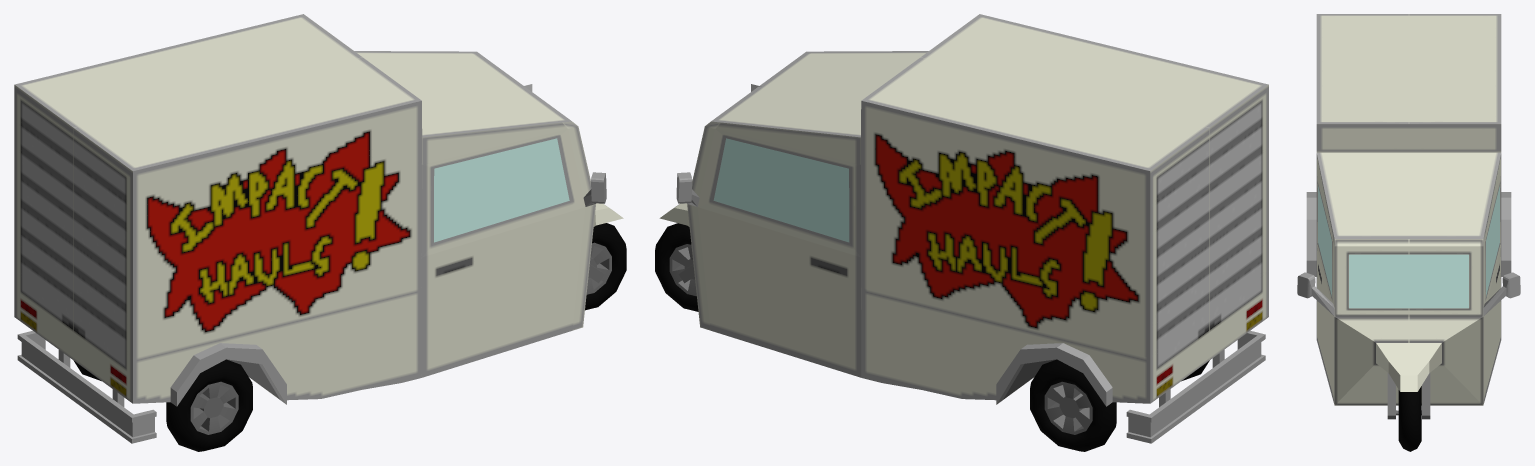
The model's file is EgyptTukTuk.fbx.
3 views of the same model, side by side, from view 1: azimuth 30°, elevation 25°; view 2: azimuth 150°, elevation 25°; view 3: azimuth 270°, elevation 25° (orthographic). The views are drawn at different scales.
Visible parts, largest first — view 1: TukTuk, Cube.057, Tire.002, Torus.005, Tire, Torus.004; view 2: TukTuk, Cube.057, Tire.001, Torus.003, Tire, Torus.004; view 3: TukTuk, Cube.058, Cube.057, Tire, Tuk Axels.
Part boxes in pixels (x1,y1,x2,y2): TukTuk: [14, 14, 623, 443]; Cube.057: [434, 138, 569, 242]; Tire.002: [166, 359, 252, 451]; Torus.005: [190, 381, 238, 434]; Tire: [585, 223, 626, 310]; Torus.004: [586, 242, 611, 294]; TukTuk: [659, 14, 1268, 443]; Cube.057: [713, 138, 849, 242]; Tire.001: [1030, 359, 1116, 451]; Torus.003: [1044, 381, 1092, 434]; Tire: [655, 223, 698, 311]; Torus.004: [669, 244, 696, 296]; TukTuk: [1297, 14, 1520, 405]; Cube.058: [1349, 254, 1468, 308]; Cube.057: [1318, 186, 1499, 296]; Tire: [1398, 386, 1421, 451]; Tuk Axels: [1387, 373, 1430, 419].
Bounding box in the file's own units: 440 × 234 × 198.
